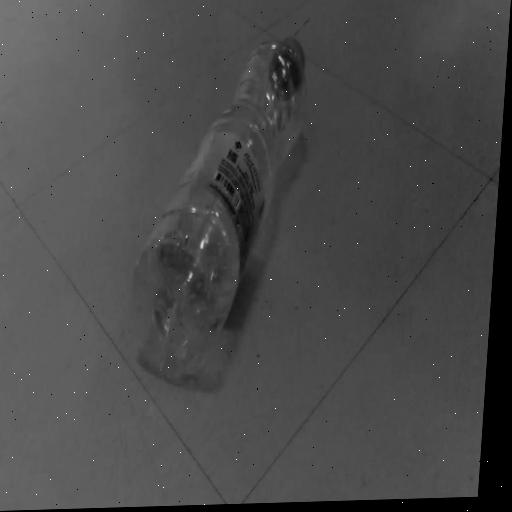bottle: (125, 38, 308, 384)
